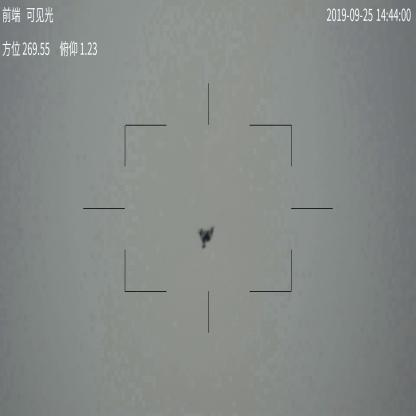uav: (197, 225, 217, 250)
